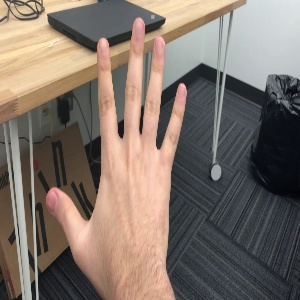hand: (48, 16, 187, 271)
